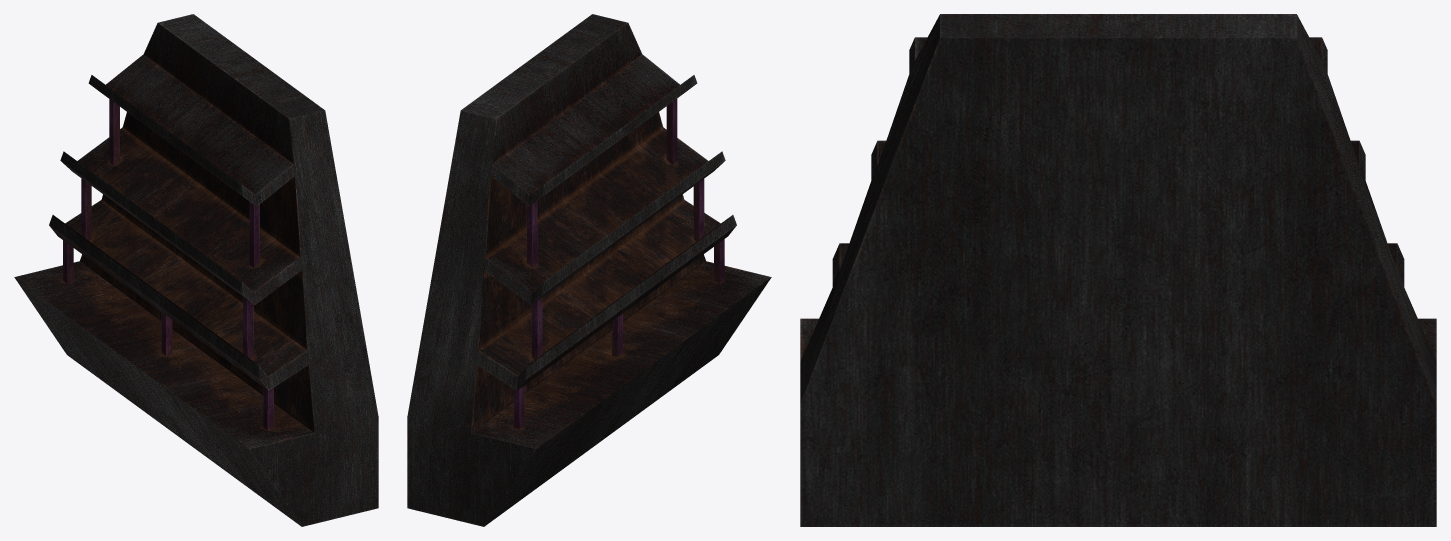
The model's file is Prize_ShelfEmbedded.fbx.
3 renders of one model, left to right at view 1: azimuth 30°, elevation 25°; view 2: azimuth 150°, elevation 25°; view 3: azimuth 270°, elevation 25°, orthographic. The views are drawn at different scales.
Parts seen in each view (by area): view 1: Prize Shelf; view 2: Prize Shelf; view 3: Prize Shelf.
Part boxes in pixels (x1,y1,x2,y2): Prize Shelf: (14,14,378,526); Prize Shelf: (407,14,771,526); Prize Shelf: (800,14,1436,526).
Bounding box in the file's own units: 38.96 × 104 × 122.
1 material, 1 textured.
